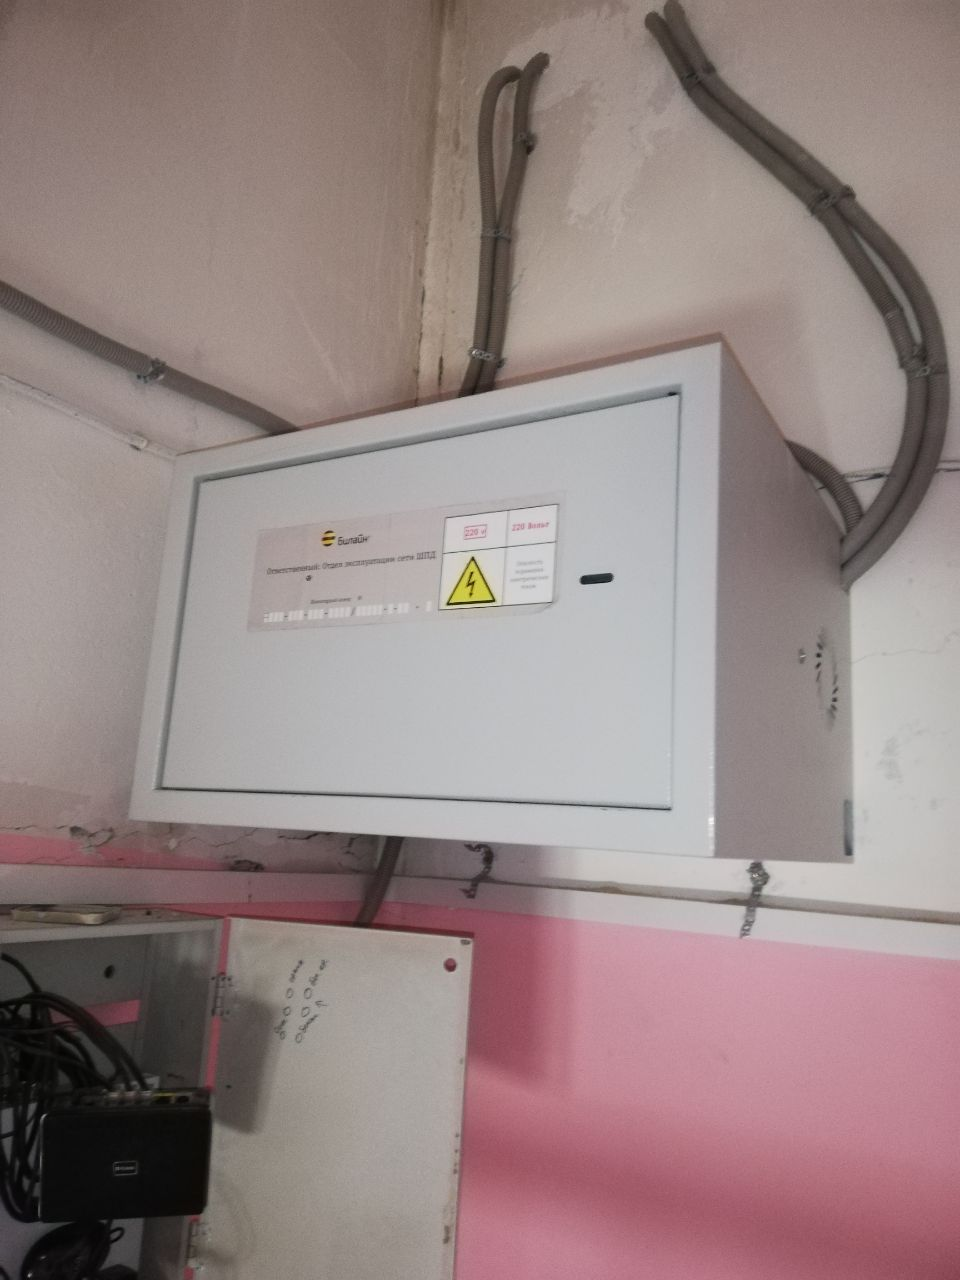shta-7m: (113, 322, 871, 872)
